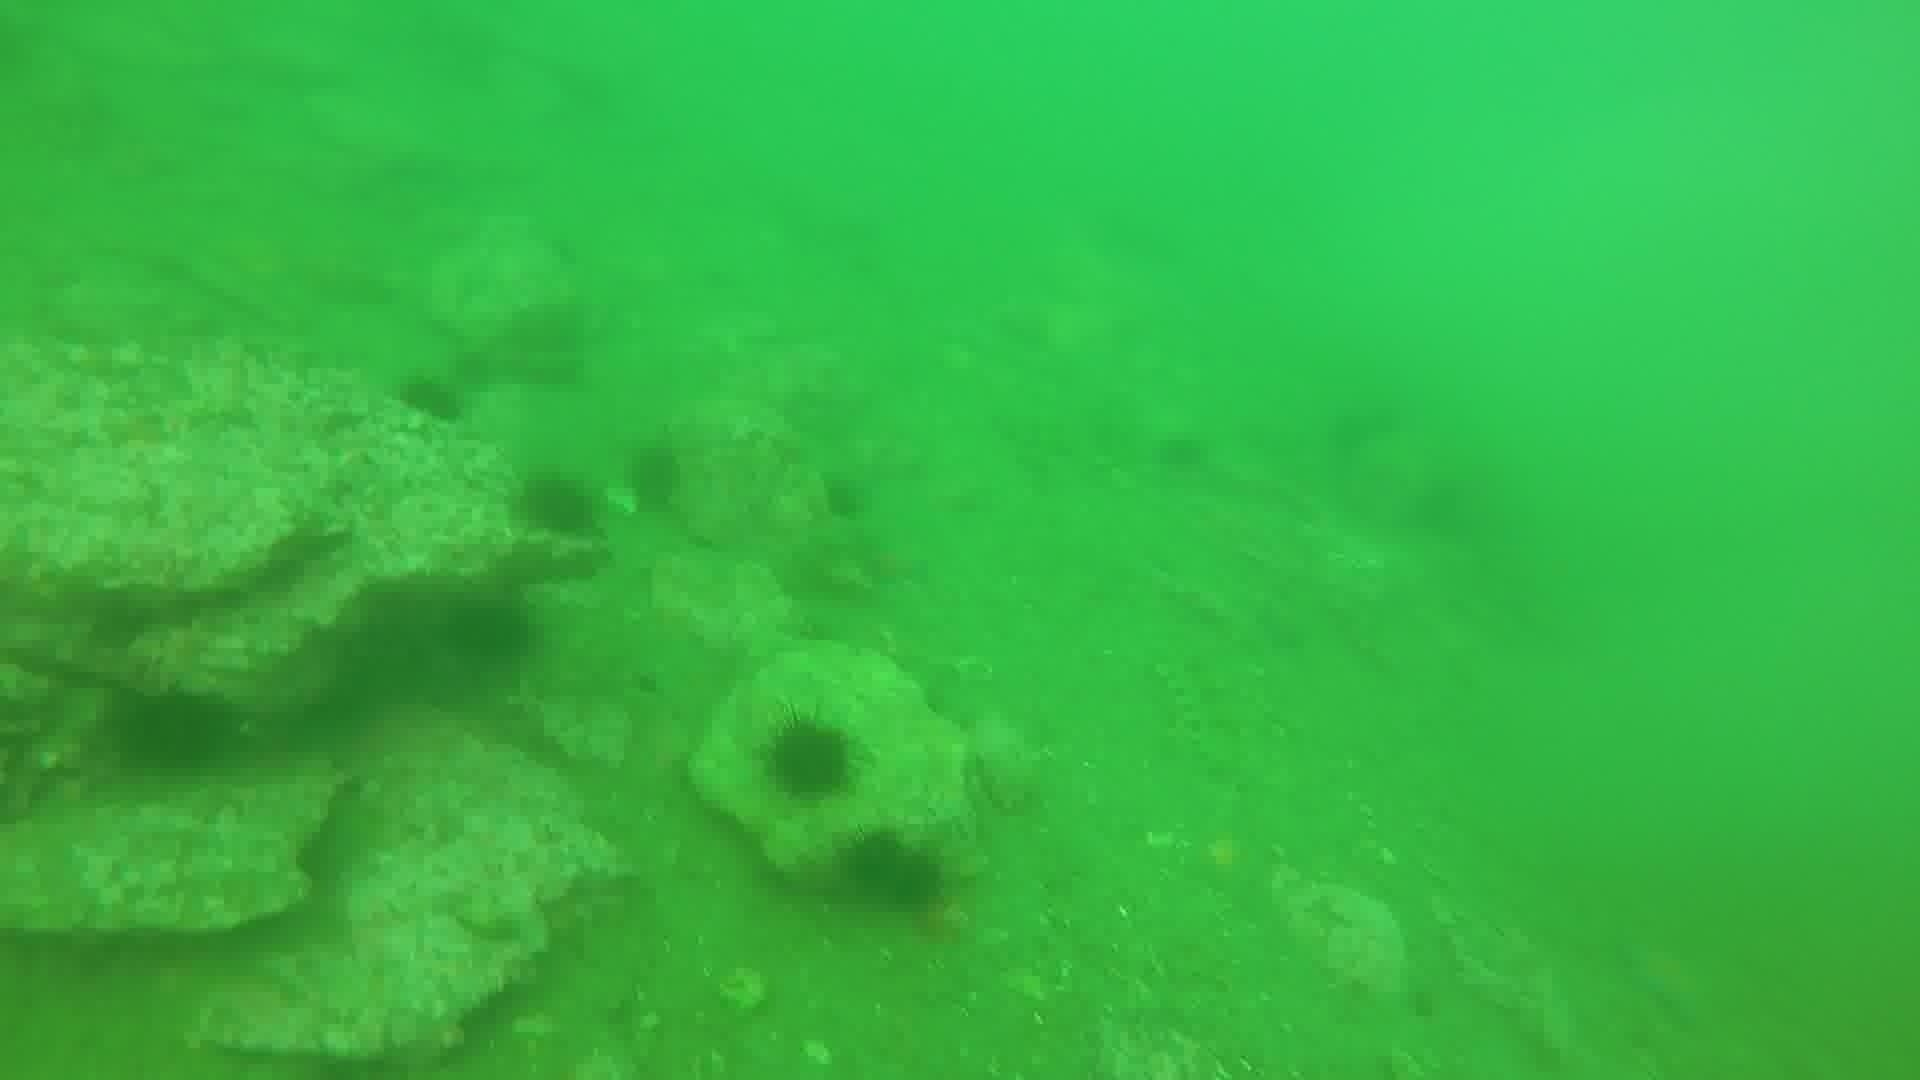echinus: (105, 680, 236, 781), (833, 824, 953, 922), (757, 712, 861, 806), (439, 589, 538, 673), (512, 468, 604, 543), (620, 440, 690, 516), (392, 368, 471, 429)
holothurian: (1147, 647, 1255, 786)
starfish: (1615, 934, 1718, 1030)
